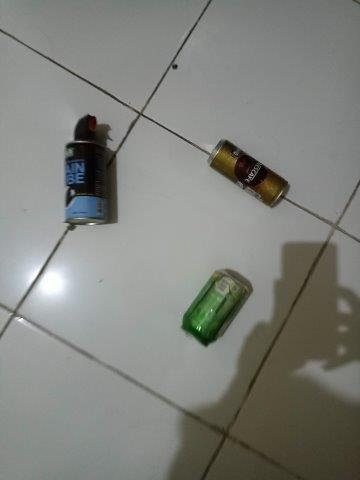kaleng: (180, 269, 252, 347), (209, 138, 289, 208), (63, 140, 108, 226)
